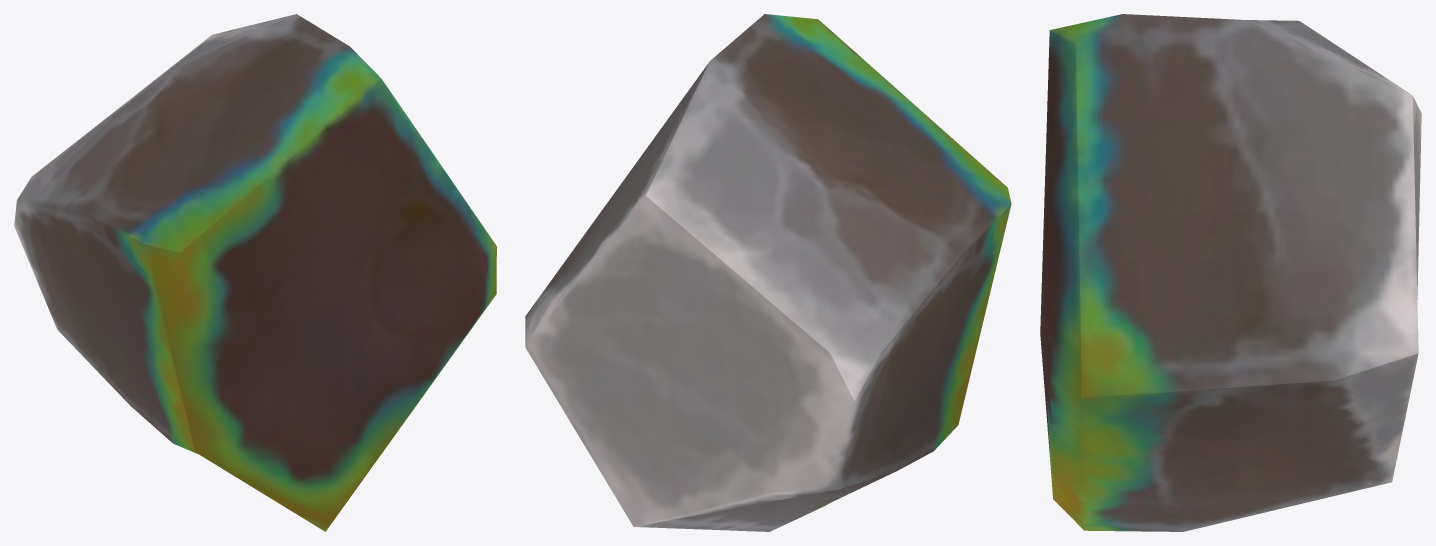
The model's file is interactable.glb.
3 views of the same model, side by side, from view 1: azimuth 30°, elevation 25°; view 2: azimuth 150°, elevation 25°; view 3: azimuth 270°, elevation 25° (orthographic). The views are drawn at different scales.
Visible parts, largest first — view 1: Stone_1_Low_stones_moss_0; view 2: Stone_1_Low_stones_moss_0; view 3: Stone_1_Low_stones_moss_0.
Part boxes in pixels (<box>): Stone_1_Low_stones_moss_0: <box>14,14,496,531</box>; Stone_1_Low_stones_moss_0: <box>525,14,1011,531</box>; Stone_1_Low_stones_moss_0: <box>1040,14,1421,531</box>.
Size of the model in its own units: 33.47 by 40.39 by 25.86.
1 material, 1 textured.
